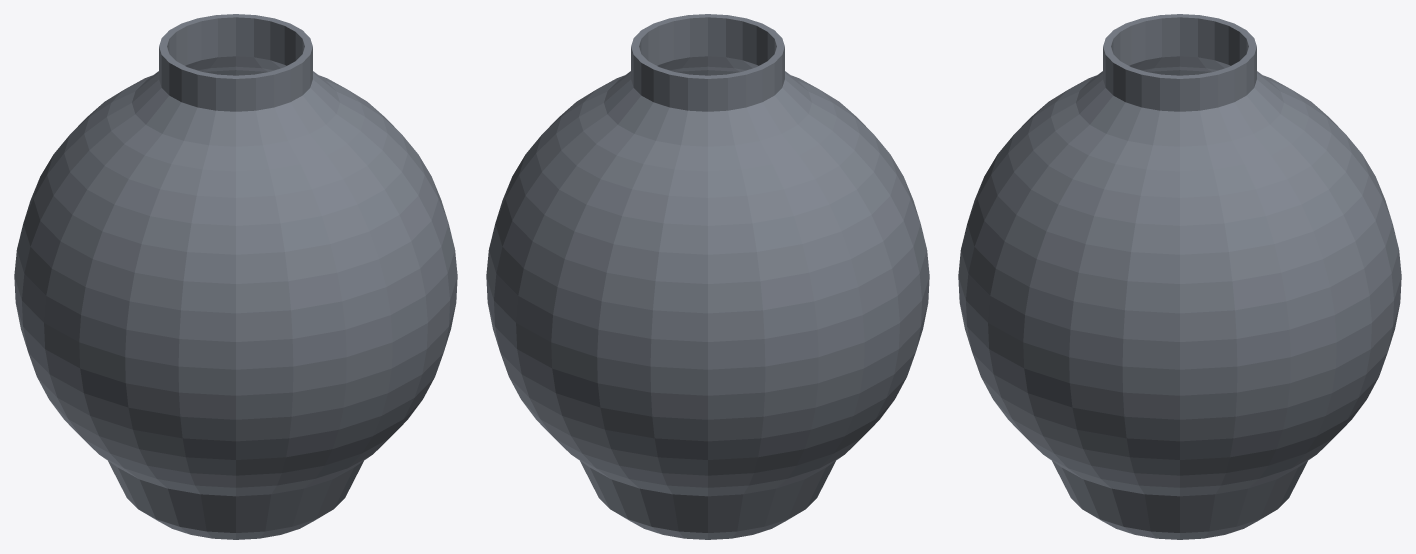
File: jar_snowglobe.obj
The picture shows the model from 3 angles, left to right: view 1: azimuth 30°, elevation 25°; view 2: azimuth 150°, elevation 25°; view 3: azimuth 270°, elevation 25°; orthographic projection.
Visible parts, largest first — view 1: jar_snowglobe; view 2: jar_snowglobe; view 3: jar_snowglobe.
Part boxes in pixels (left/top/right/bottom): jar_snowglobe: left=14, top=14, right=457, bottom=539; jar_snowglobe: left=486, top=14, right=929, bottom=539; jar_snowglobe: left=958, top=14, right=1401, bottom=539.
Bounding box in the file's own units: 0.196 × 0.222 × 0.196.
1 material, 1 textured.
